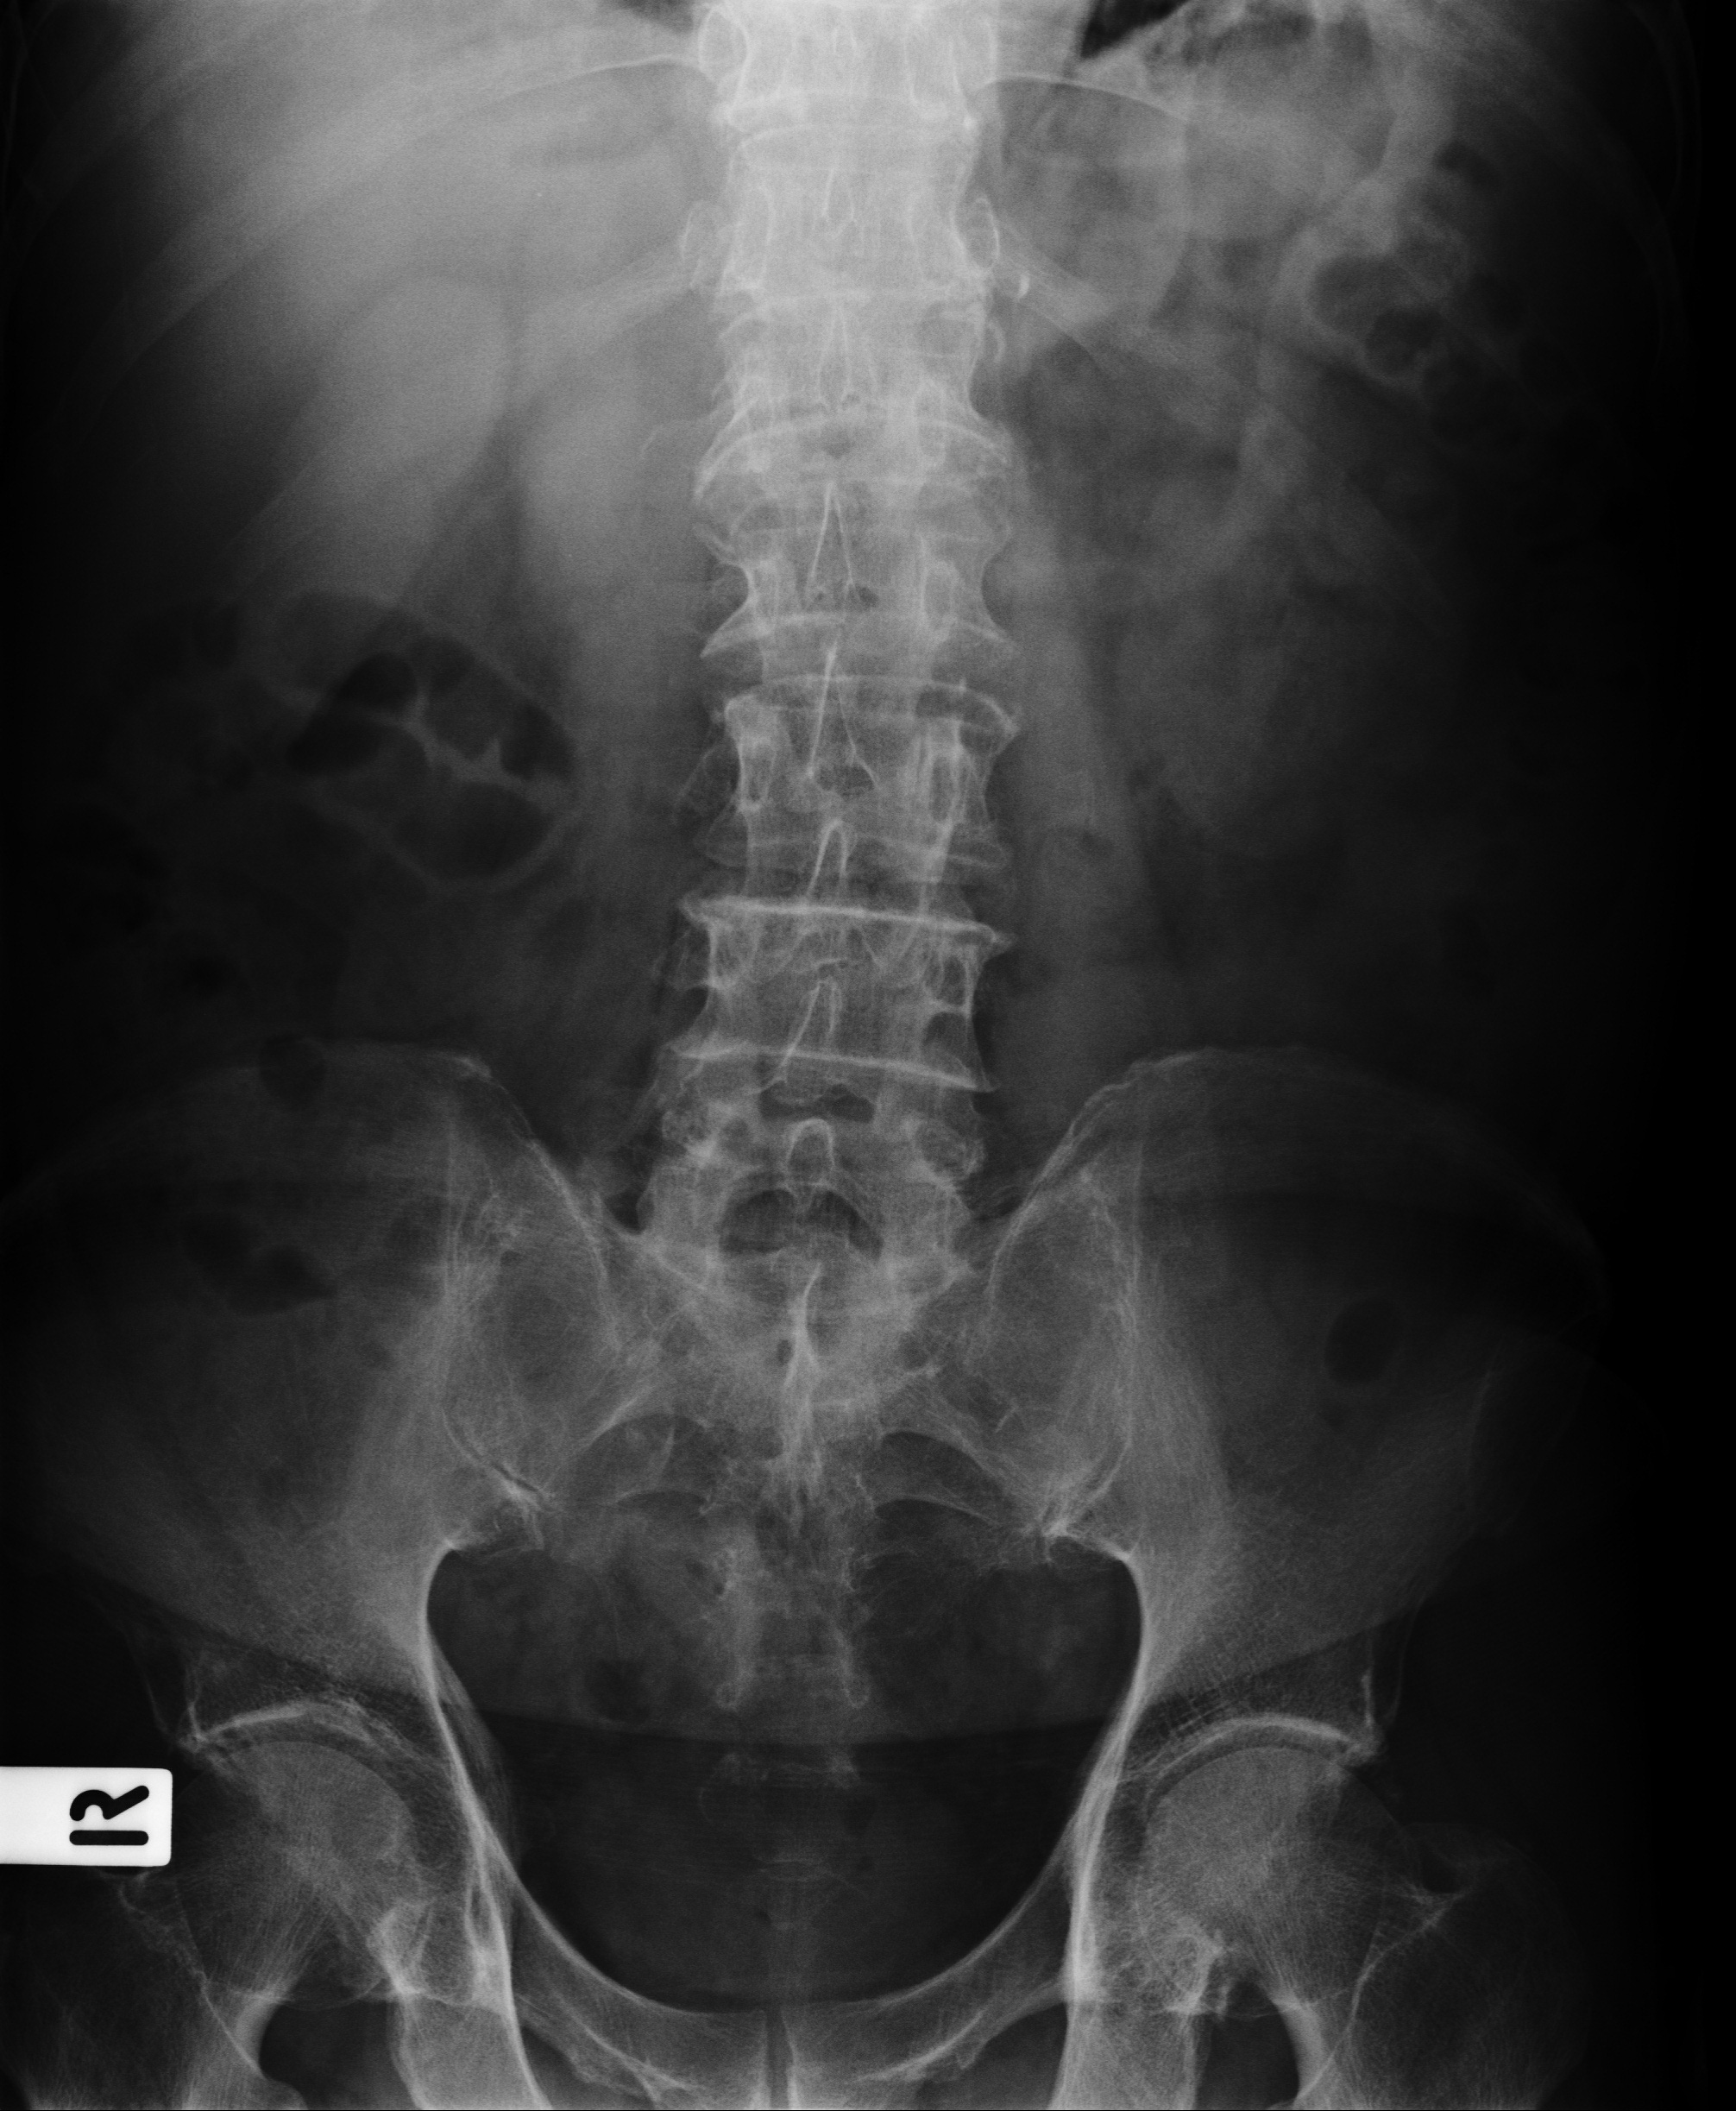lumbar scoliosis: (654, 21, 1031, 1436)
